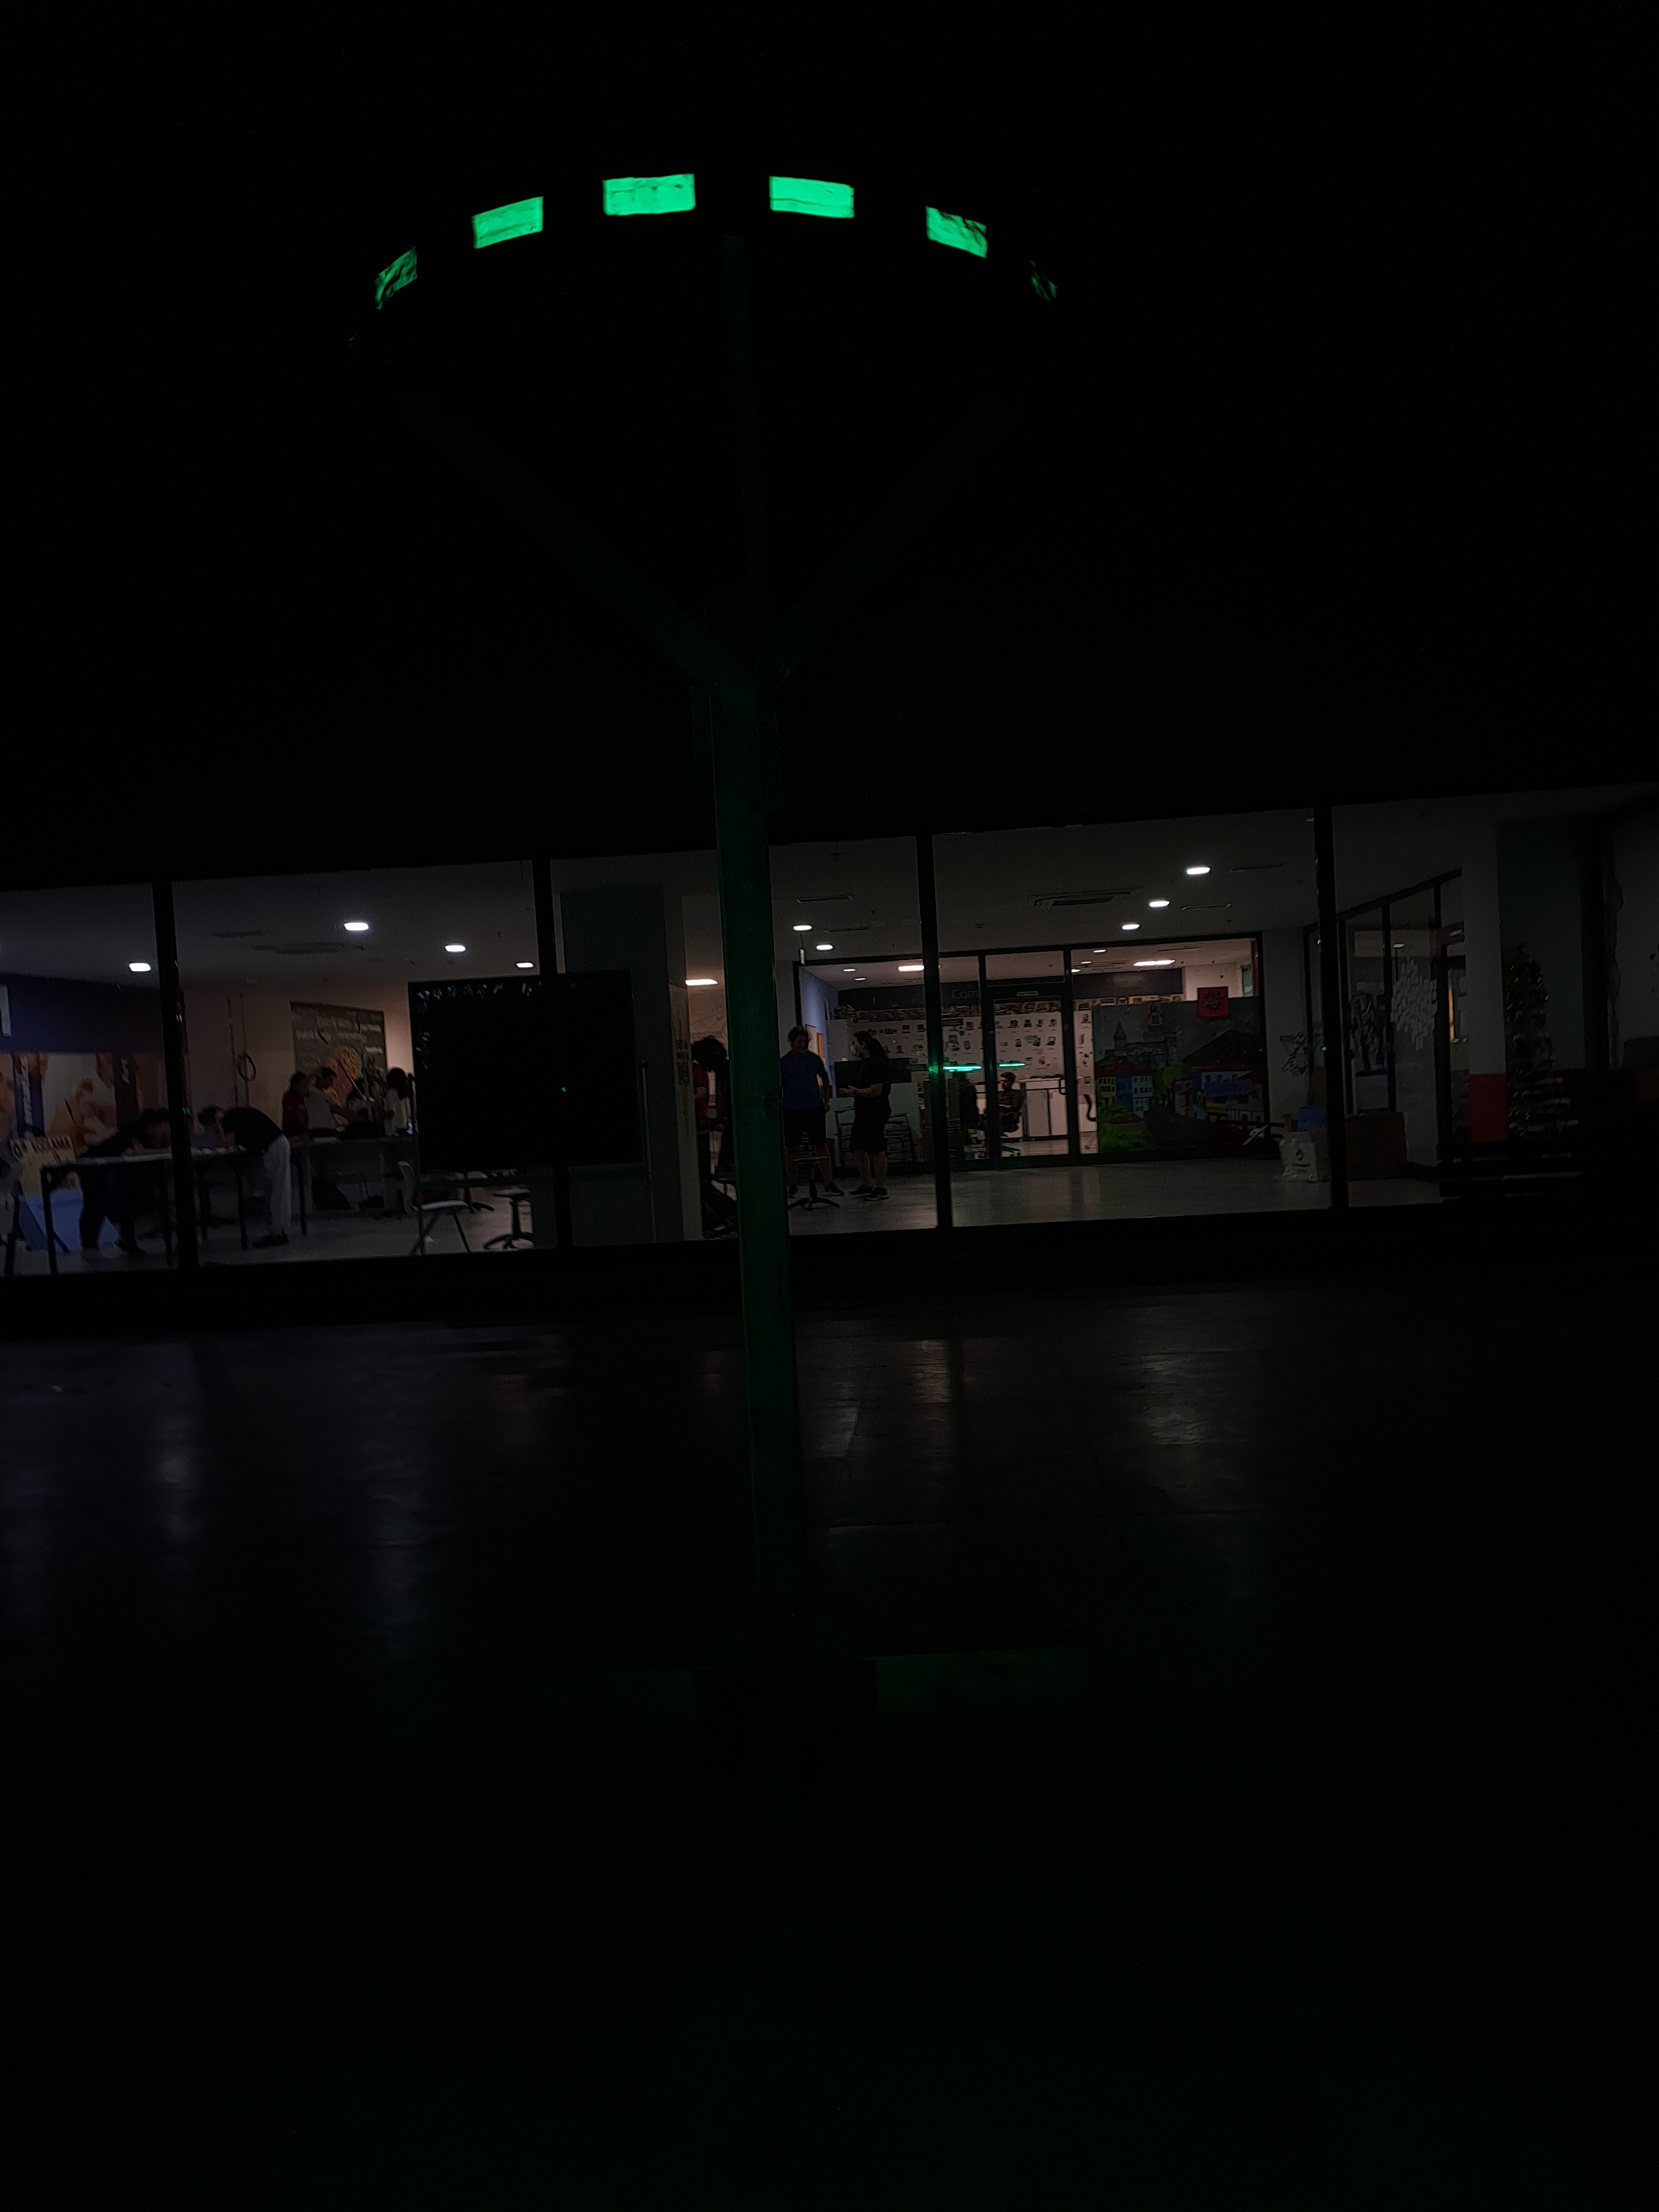hoop: (373, 169, 1060, 312)
